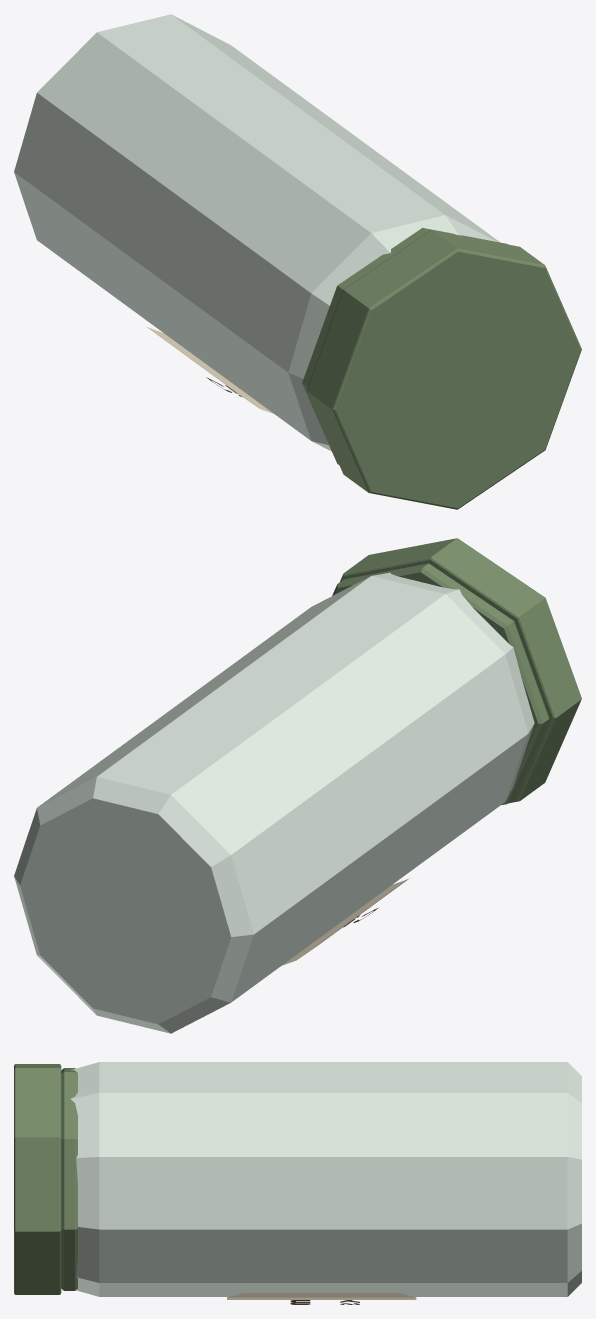
File: cinnamon_sticks.glb
The picture shows the model from 3 angles, top to bottom: view 1: azimuth 30°, elevation 25°; view 2: azimuth 150°, elevation 25°; view 3: azimuth 270°, elevation 25°; orthographic projection. The views are drawn at different scales.
Parts seen in each view (by area): view 1: cinnamon_sticks; view 2: cinnamon_sticks; view 3: cinnamon_sticks.
Part boxes in pixels (box(x1,y1,x2,y2)): cinnamon_sticks: box(14, 14, 581, 509); cinnamon_sticks: box(14, 538, 581, 1033); cinnamon_sticks: box(14, 1062, 581, 1304).
Bounding box in the file's own units: 0.052 × 0.0525 × 0.12.
